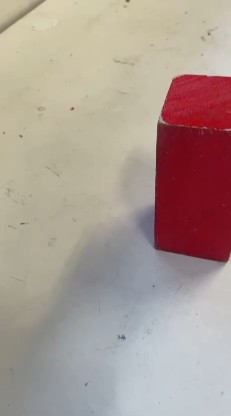red: (151, 73, 226, 268)
